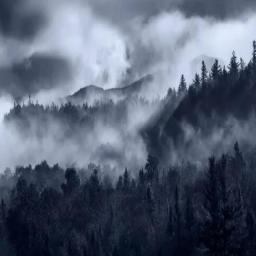Heavy smoke: (0, 0, 255, 193)
